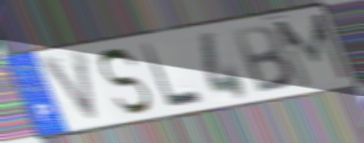4: (196, 29, 249, 102)
B: (230, 22, 297, 95)
L: (138, 41, 207, 111)
M: (272, 11, 355, 91)
S: (97, 46, 154, 117)
V: (36, 47, 105, 129)
